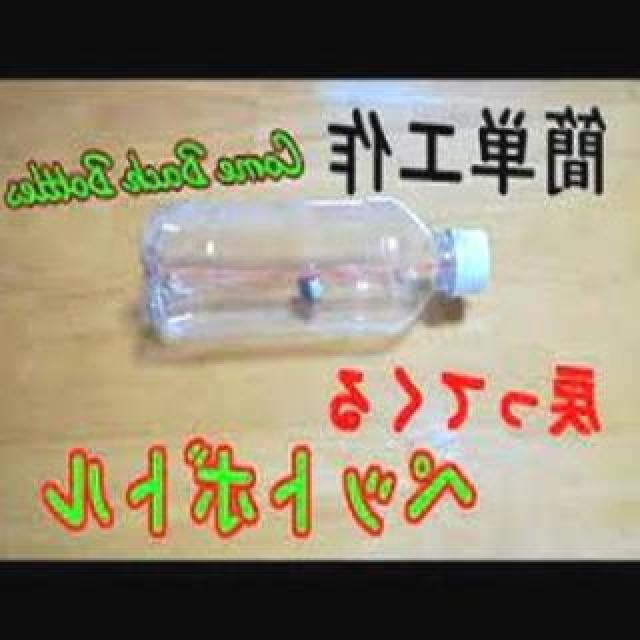Pet_Bottle: (129, 192, 495, 364)
